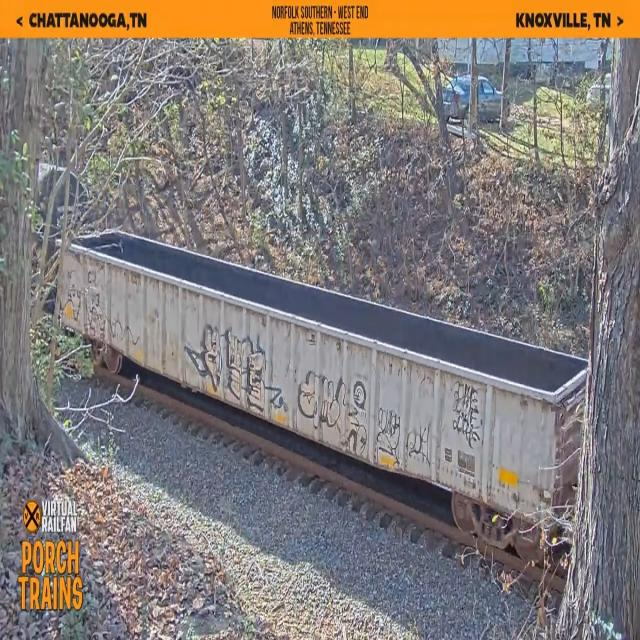gondola: (55, 218, 590, 560)
